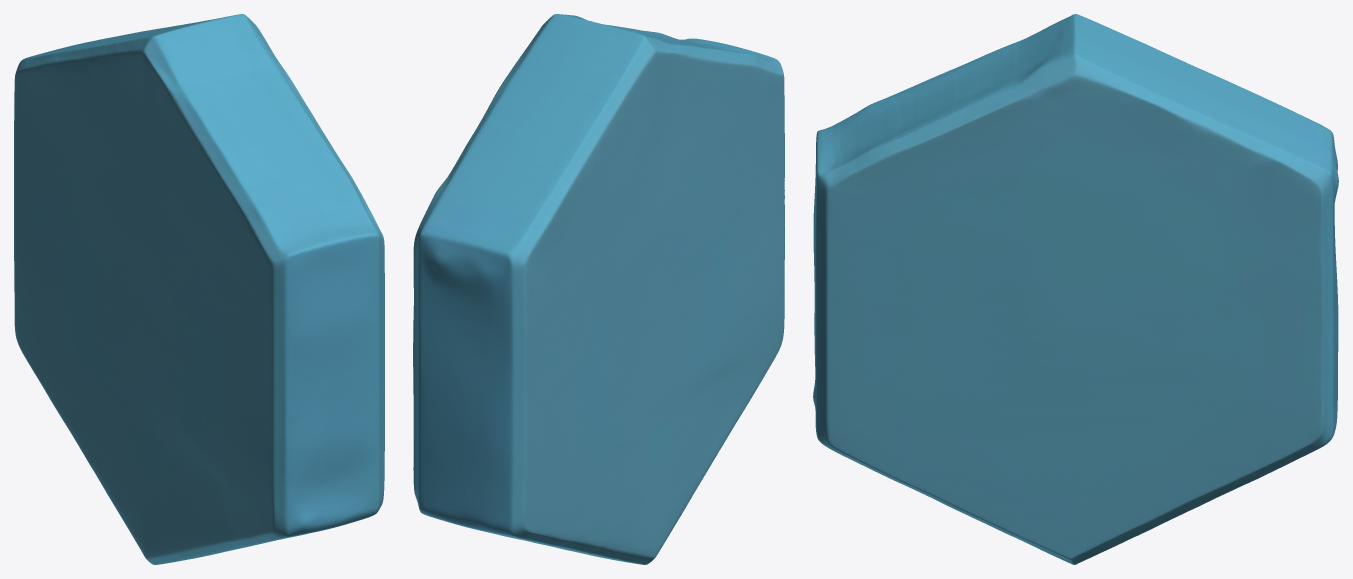
The model's file is terrain_water 2.glb.
3 views of the same model, side by side, from view 1: azimuth 30°, elevation 25°; view 2: azimuth 150°, elevation 25°; view 3: azimuth 270°, elevation 25° (orthographic). The views are drawn at different scales.
Parts seen in each view (by area): view 1: tripo_node_dc14d782-63fd-4a6e-9c8d-2bcb0012ebd0; view 2: tripo_node_dc14d782-63fd-4a6e-9c8d-2bcb0012ebd0; view 3: tripo_node_dc14d782-63fd-4a6e-9c8d-2bcb0012ebd0.
Part boxes in pixels (x1,y1,x2,y2): tripo_node_dc14d782-63fd-4a6e-9c8d-2bcb0012ebd0: [14, 14, 384, 564]; tripo_node_dc14d782-63fd-4a6e-9c8d-2bcb0012ebd0: [413, 14, 784, 564]; tripo_node_dc14d782-63fd-4a6e-9c8d-2bcb0012ebd0: [813, 14, 1338, 564].
Size of the model in its own units: 0.2284 by 1 by 0.9306.
1 material, 1 textured.
